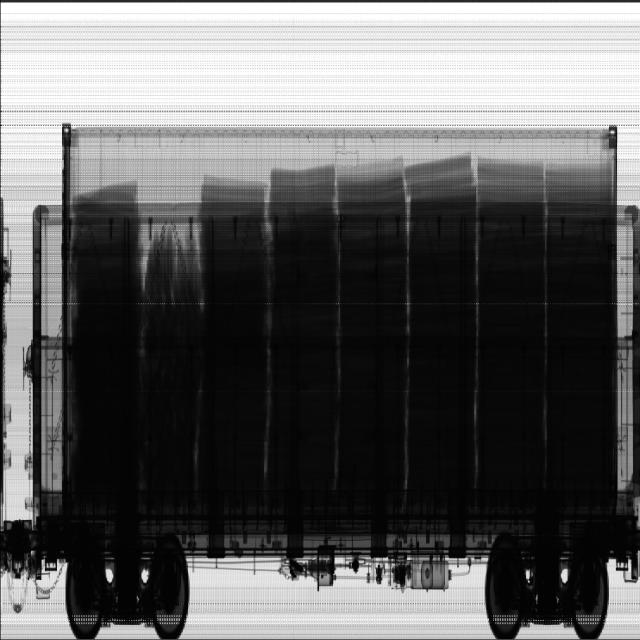fabrics: (70, 152, 612, 498)
